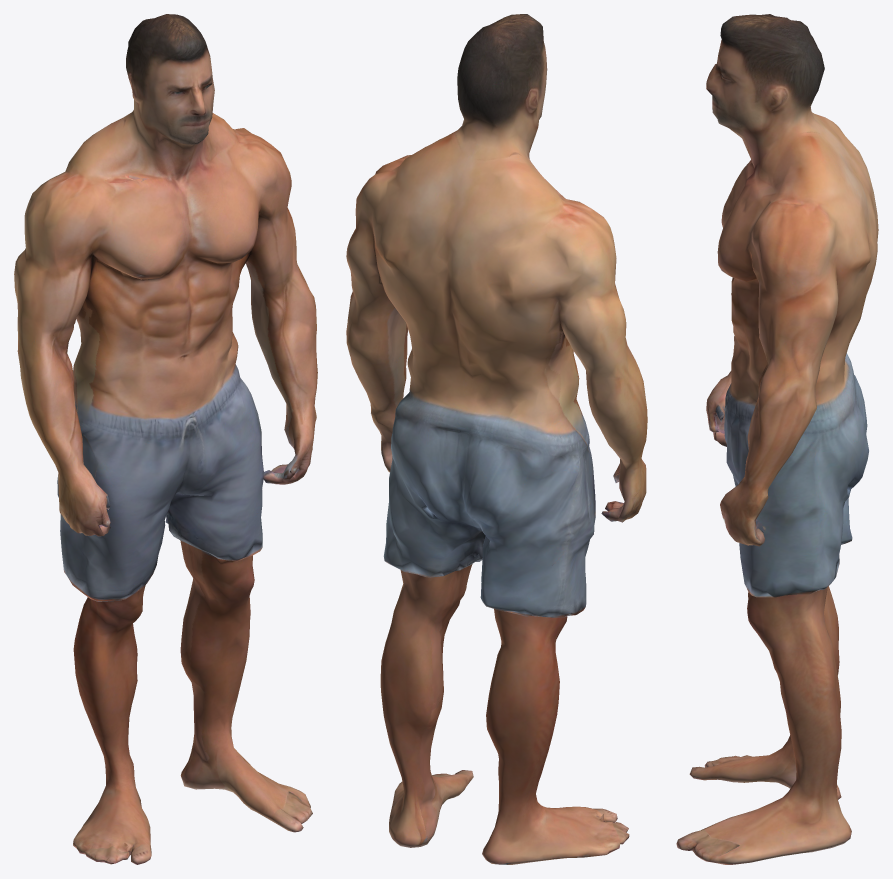
3 views of the same model, side by side, from view 1: azimuth 30°, elevation 25°; view 2: azimuth 150°, elevation 25°; view 3: azimuth 270°, elevation 25° (orthographic).
Bounding box in the file's own units: 0.7413 × 1.99 × 0.46.
Materials: 1 (1 with a texture image).
